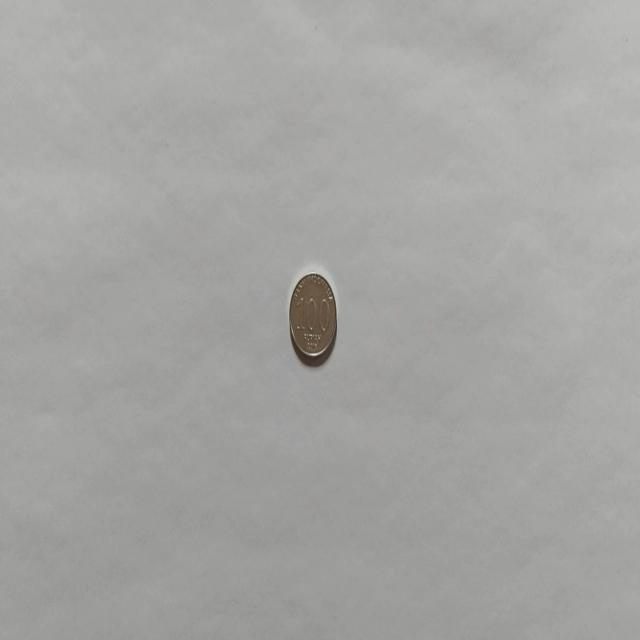seratus rupiah: (288, 270, 338, 364)
